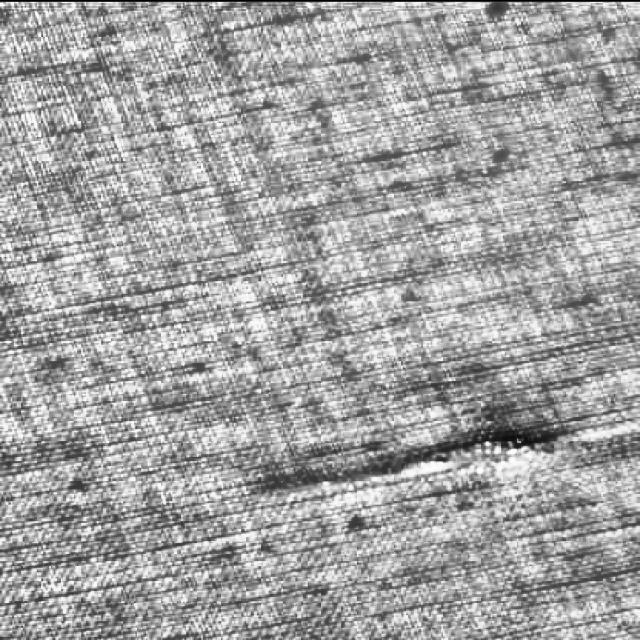thread_error: (271, 409, 575, 517)
